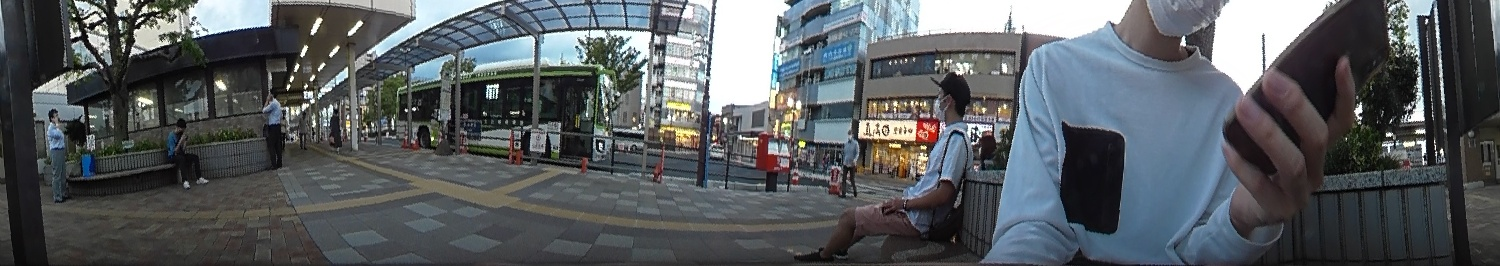difficult_person: (325, 104, 345, 152), (295, 109, 312, 152), (278, 106, 290, 146)
person: (789, 67, 979, 266), (162, 115, 208, 190), (42, 106, 72, 201), (259, 86, 285, 172), (837, 126, 860, 199)
